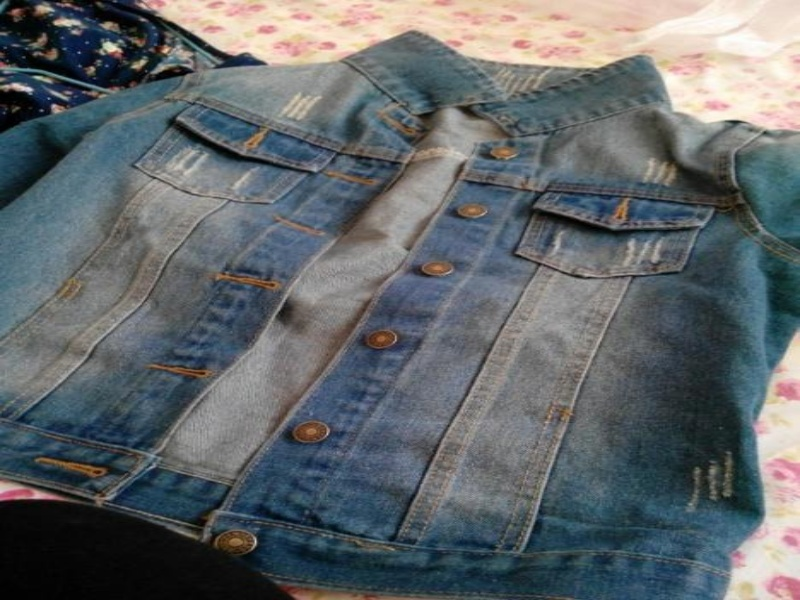long_sleeved_outwear: (0, 26, 798, 599)
